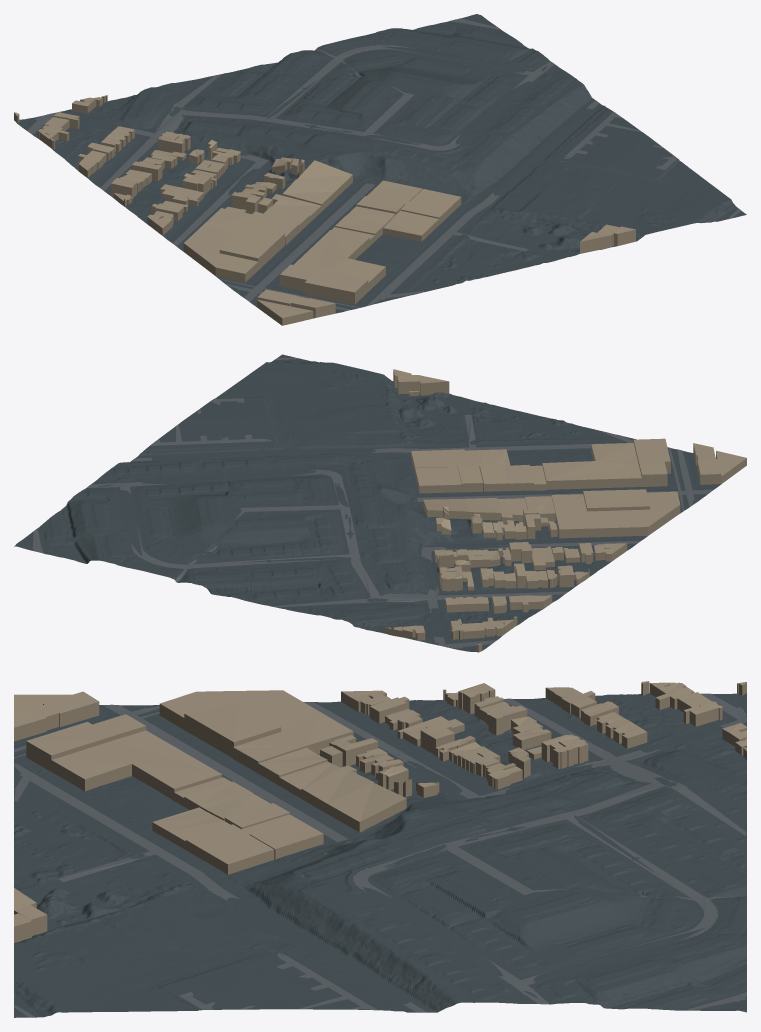
File: epsg26910-1442-10872.lod0.glb
The picture shows the model from 3 angles, top to bottom: view 1: azimuth 30°, elevation 25°; view 2: azimuth 150°, elevation 25°; view 3: azimuth 270°, elevation 25°; orthographic projection. The views are drawn at different scales.
Visible parts, largest first — view 1: epsg26910-1442-10872-lod0; view 2: epsg26910-1442-10872-lod0; view 3: epsg26910-1442-10872-lod0.
Part boxes in pixels (left/top/right/bottom): epsg26910-1442-10872-lod0: left=14, top=14, right=746, bottom=325; epsg26910-1442-10872-lod0: left=14, top=354, right=746, bottom=652; epsg26910-1442-10872-lod0: left=14, top=681, right=746, bottom=1017.
Size of the model in its own units: 384 by 19.99 by 384.
